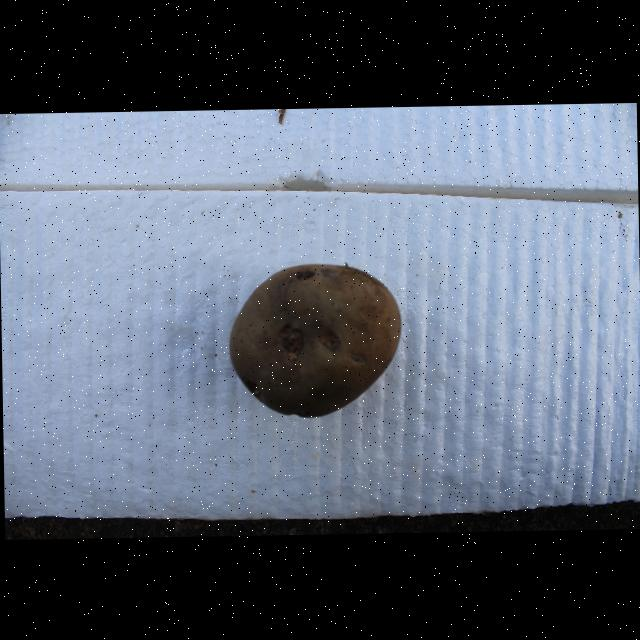Diseased-fungal potato: (238, 220, 416, 384)
